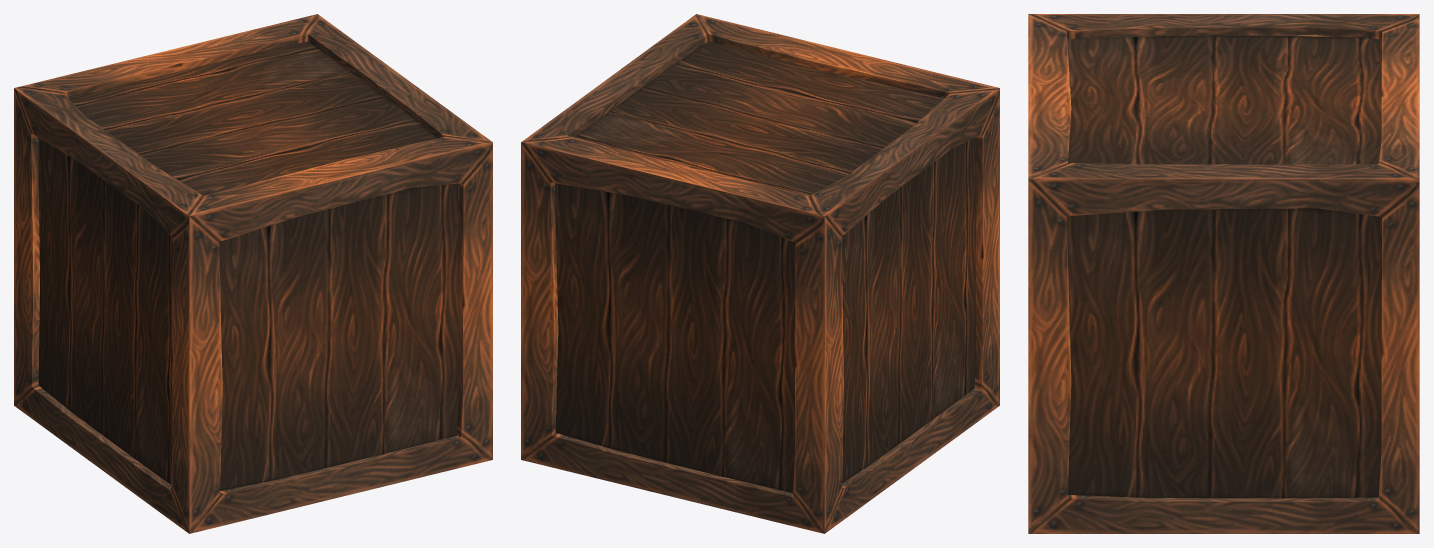
File: crate.FBX
3 renders of one model, left to right at view 1: azimuth 30°, elevation 25°; view 2: azimuth 150°, elevation 25°; view 3: azimuth 270°, elevation 25°, orthographic. The views are drawn at different scales.
Parts seen in each view (by area): view 1: crate; view 2: crate; view 3: crate.
Part boxes in pixels (<box>): crate: <box>14,14,492,533</box>; crate: <box>521,14,999,533</box>; crate: <box>1028,14,1419,533</box>.
Bounding box in the file's own units: 8.69 × 8.69 × 8.69.
Materials: 1 (1 with a texture image).
